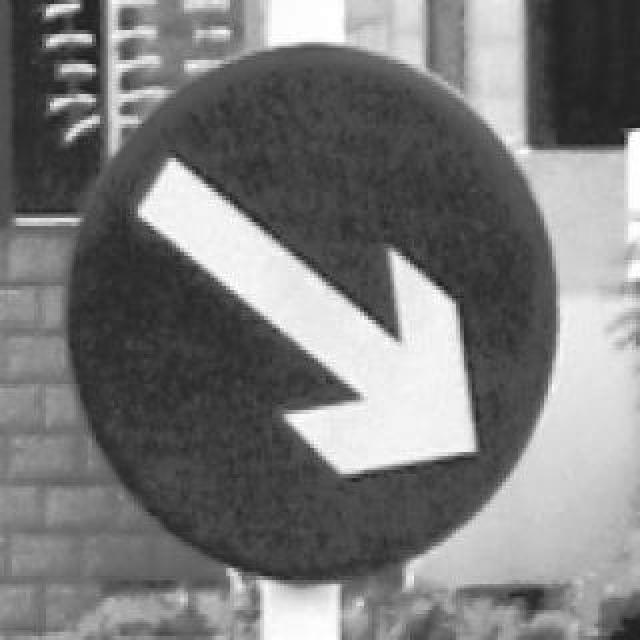keep right: (58, 40, 560, 586)
